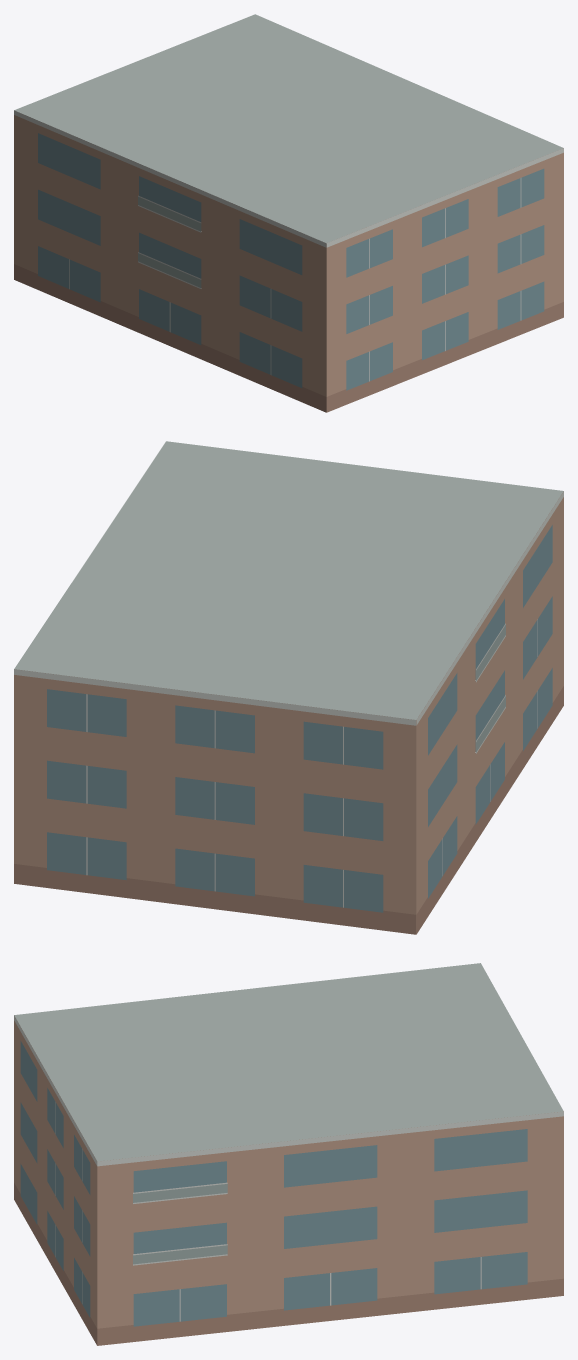
The model's file is survey-upis-32911604.glb.
3 renders of one model, top to bottom at view 1: azimuth 30°, elevation 25°; view 2: azimuth 150°, elevation 25°; view 3: azimuth 270°, elevation 25°, orthographic. The views are drawn at different scales.
Visible parts, largest first — view 1: survey-upis-32911604.tmp; view 2: survey-upis-32911604.tmp; view 3: survey-upis-32911604.tmp.
Boxes of the visible parts, <box> form: survey-upis-32911604.tmp: <box>14,14,563,412</box>; survey-upis-32911604.tmp: <box>14,441,563,934</box>; survey-upis-32911604.tmp: <box>14,963,563,1345</box>.
Size of the model in its own units: 21.13 by 9.15 by 24.73.
